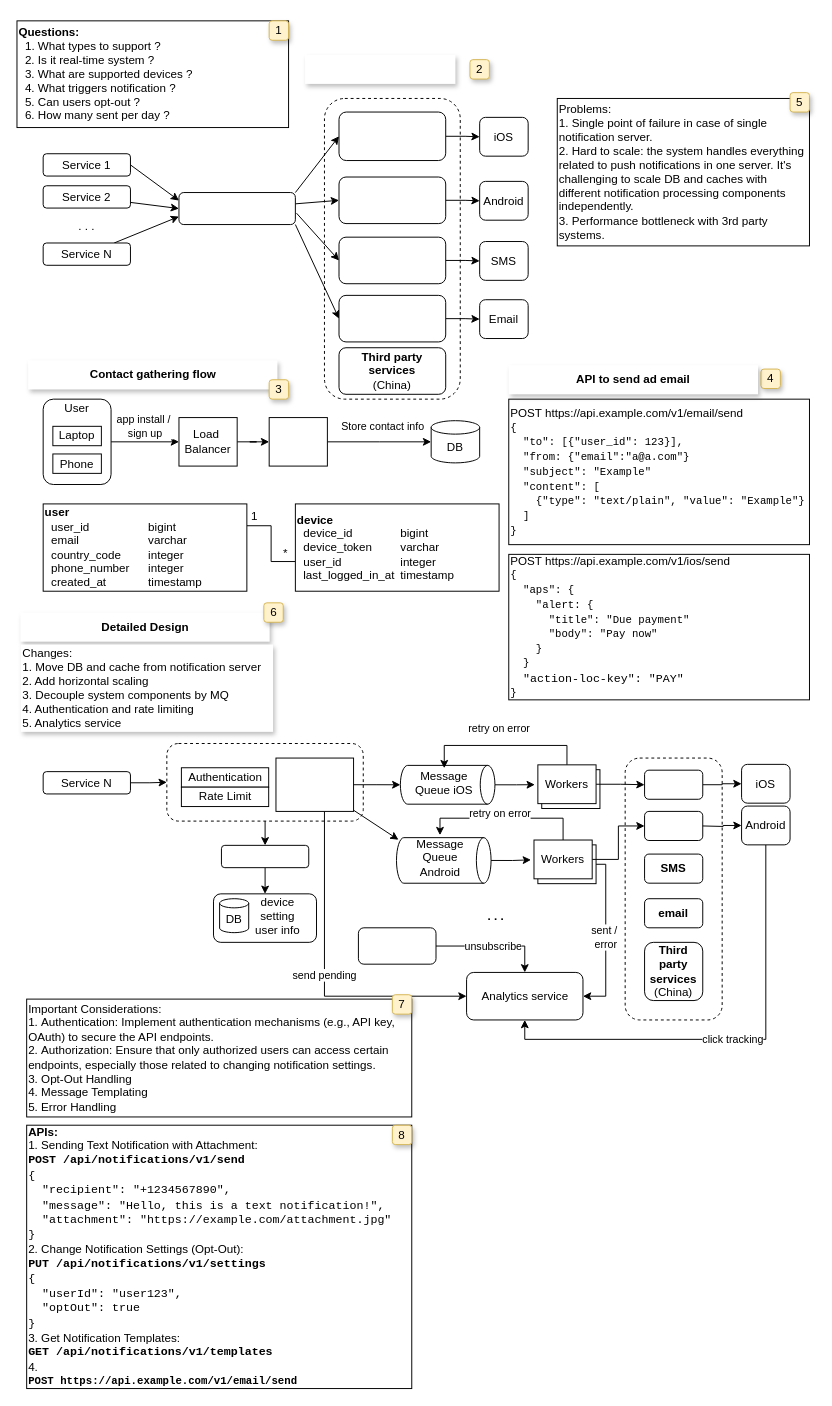
The diagram is 832 pixels wide and 1406 high, and some of its shapes have lost their labels. The centre of each missing label's shape, as x and y in pixels:
APN Apple Push Notification Service: point (392, 136)
APNs: point (673, 784)
App Servers: point (297, 441)
Cache: point (264, 856)
Email Service Sendgrid, Mailchimp: point (392, 318)
FCM: point (673, 825)
FCM Firebase Cloud Messaging: point (392, 200)
High Level Design: point (381, 70)
Notification servers: point (314, 784)
Notification system: point (236, 208)
SMS Service Twilio, Nexmo: point (392, 260)
Subscription management: point (396, 945)
